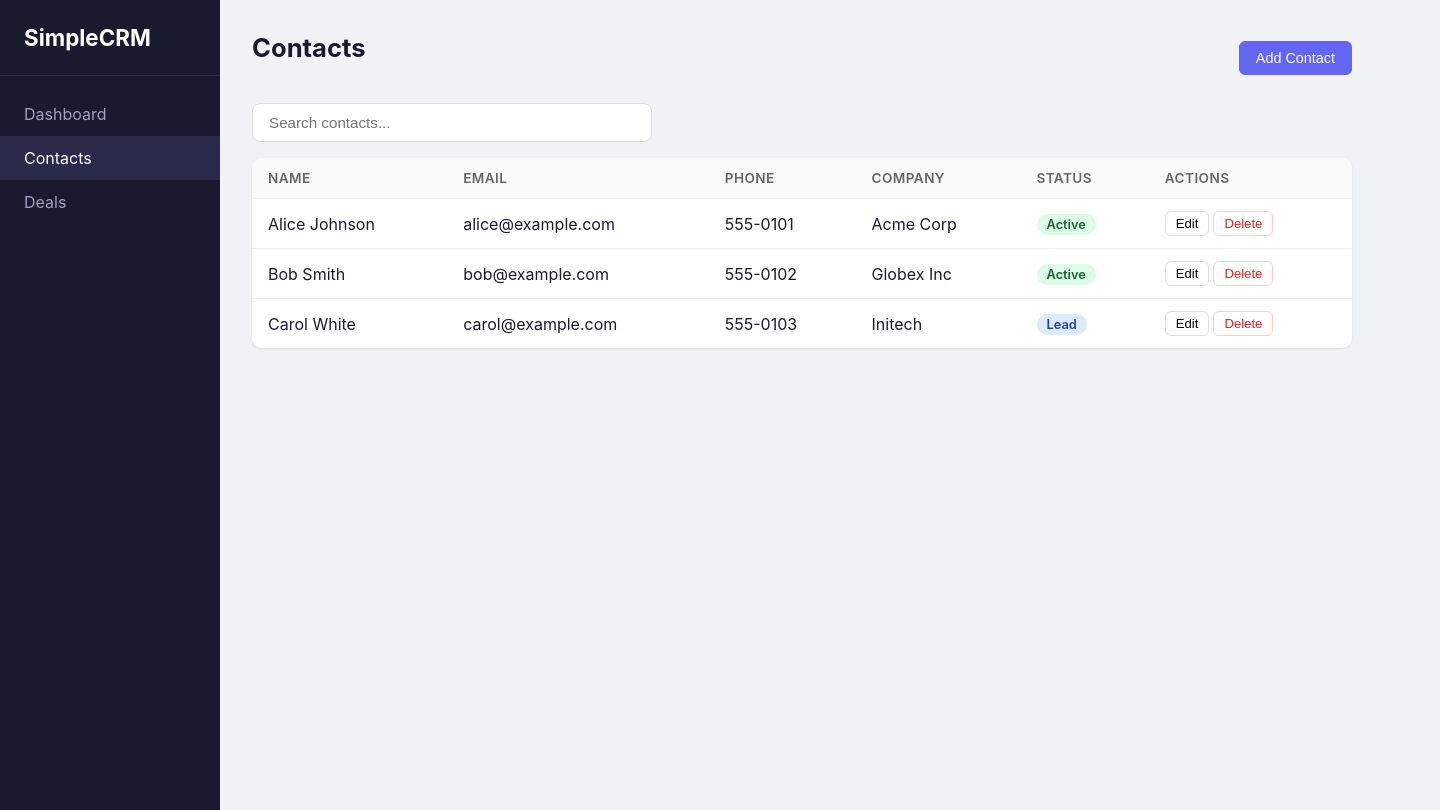
Test: App › navigates to deals page
Click the link "Deals" at {"x": 45, "y": 202}, box [24,192,66,212]
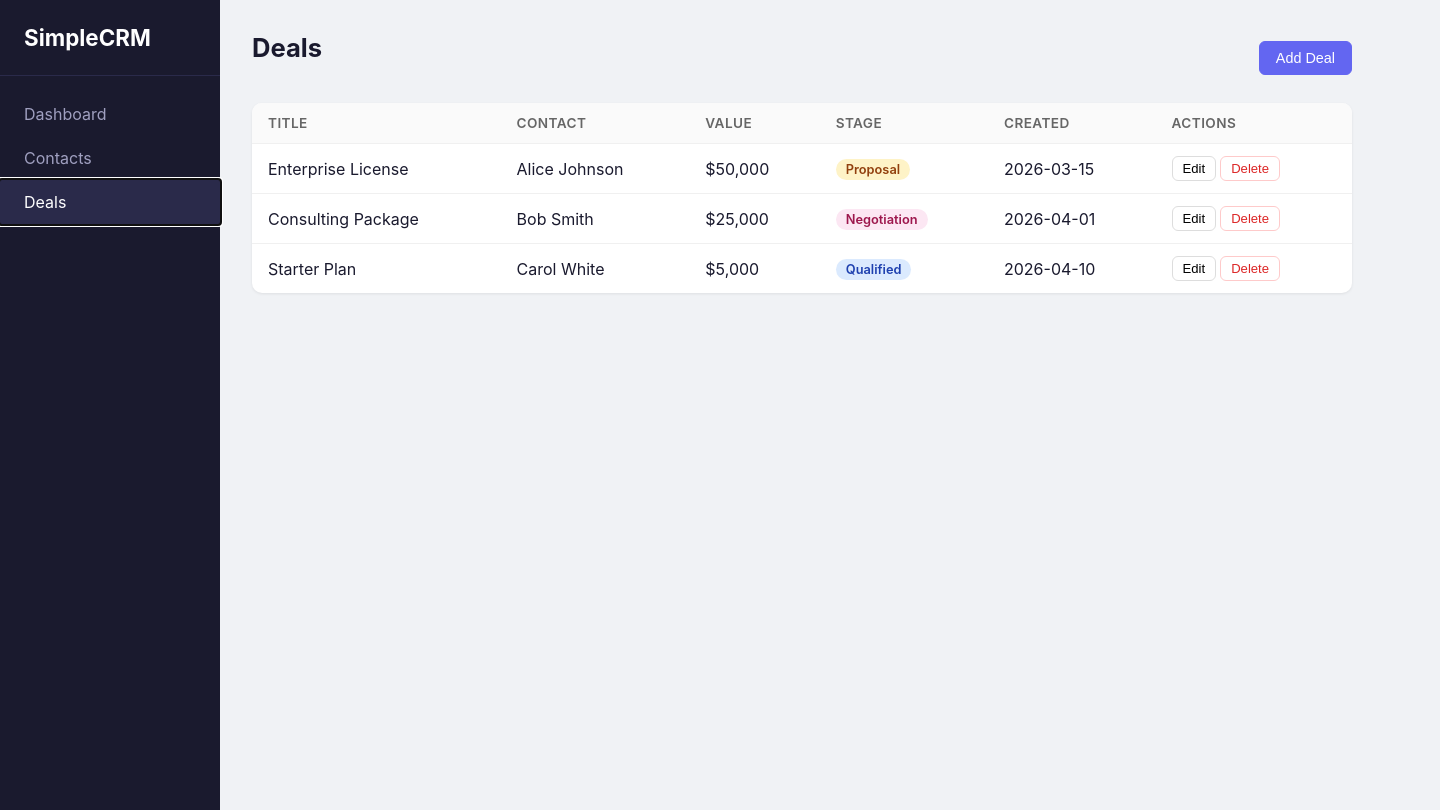
Now the button "Add Deal" is shown, box [1259,40,1352,74]
